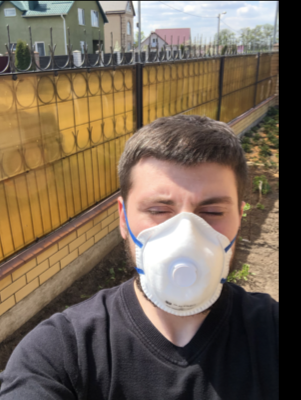with_mask: (128, 179, 237, 316)
